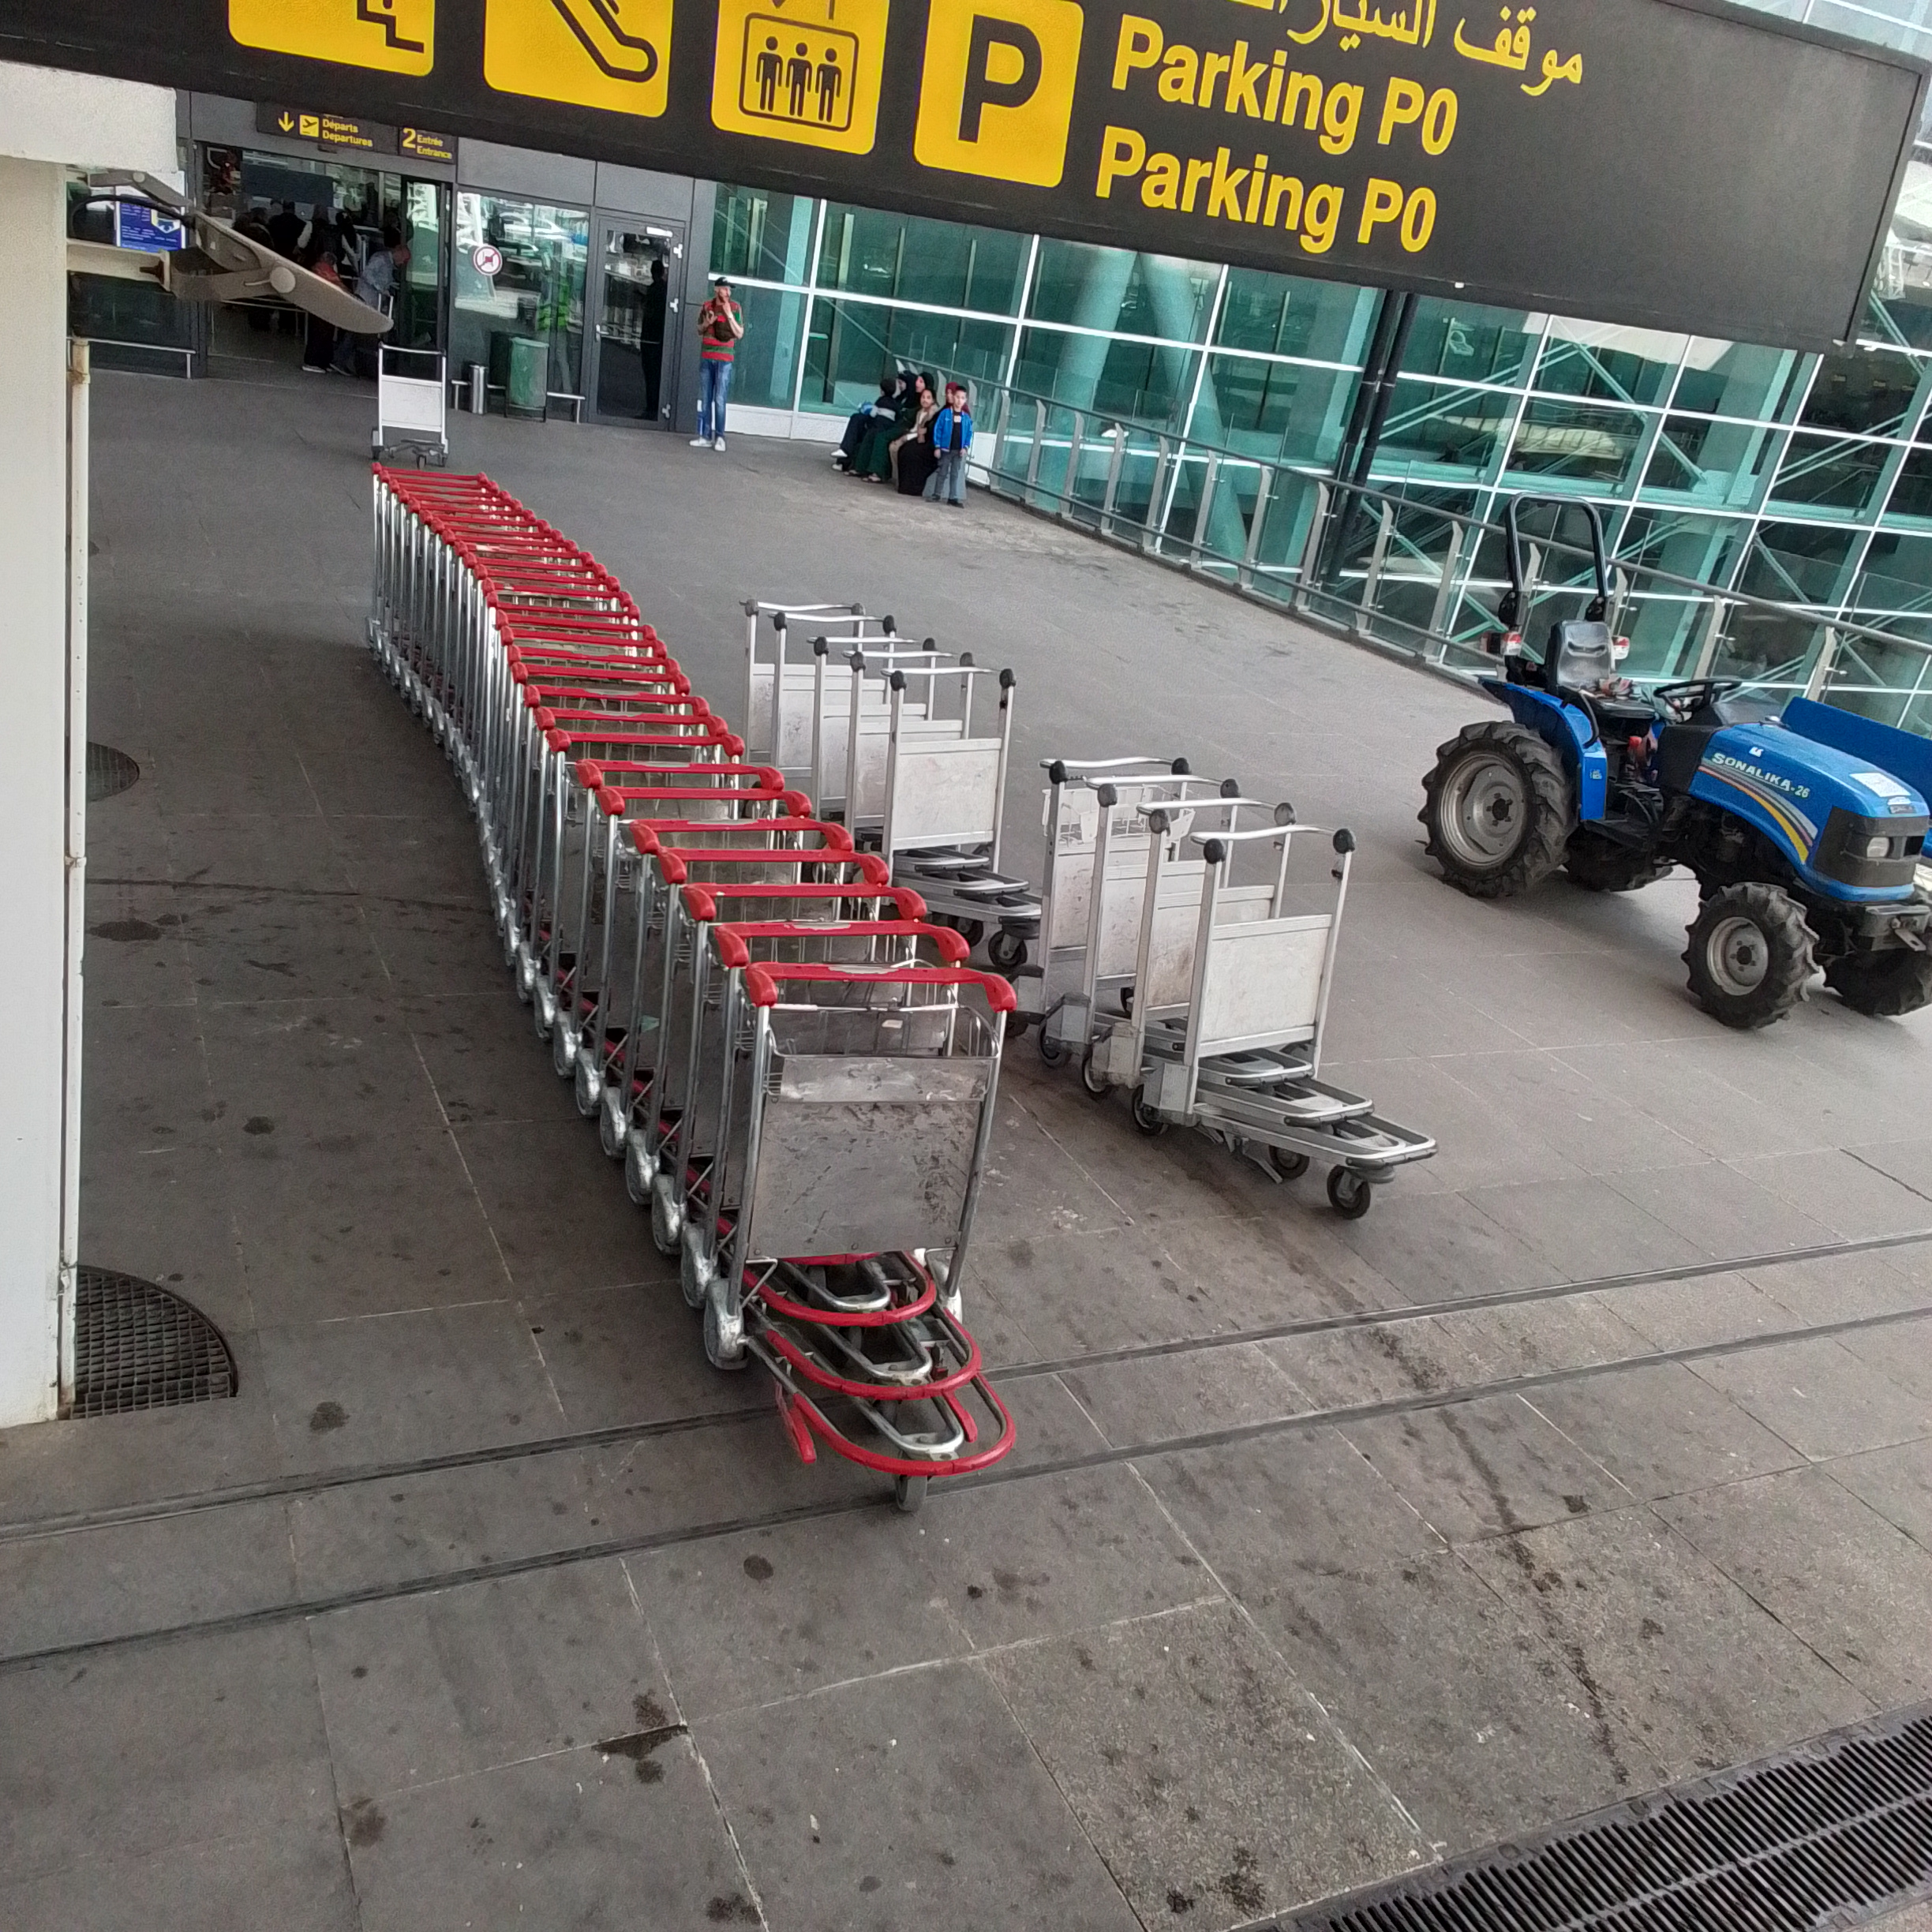airport-trolley: (708, 913, 985, 1391), (692, 886, 945, 1330), (660, 849, 915, 1274), (736, 959, 1017, 1338), (628, 814, 883, 1217), (1198, 821, 1417, 1201), (570, 755, 794, 1113), (602, 786, 821, 1139), (547, 731, 754, 1058), (531, 704, 731, 1008), (1136, 798, 1297, 1099), (1079, 780, 1242, 1072), (1039, 752, 1200, 1035), (881, 663, 1024, 938), (837, 651, 996, 874), (732, 600, 881, 823), (773, 607, 918, 814), (809, 632, 939, 833)
